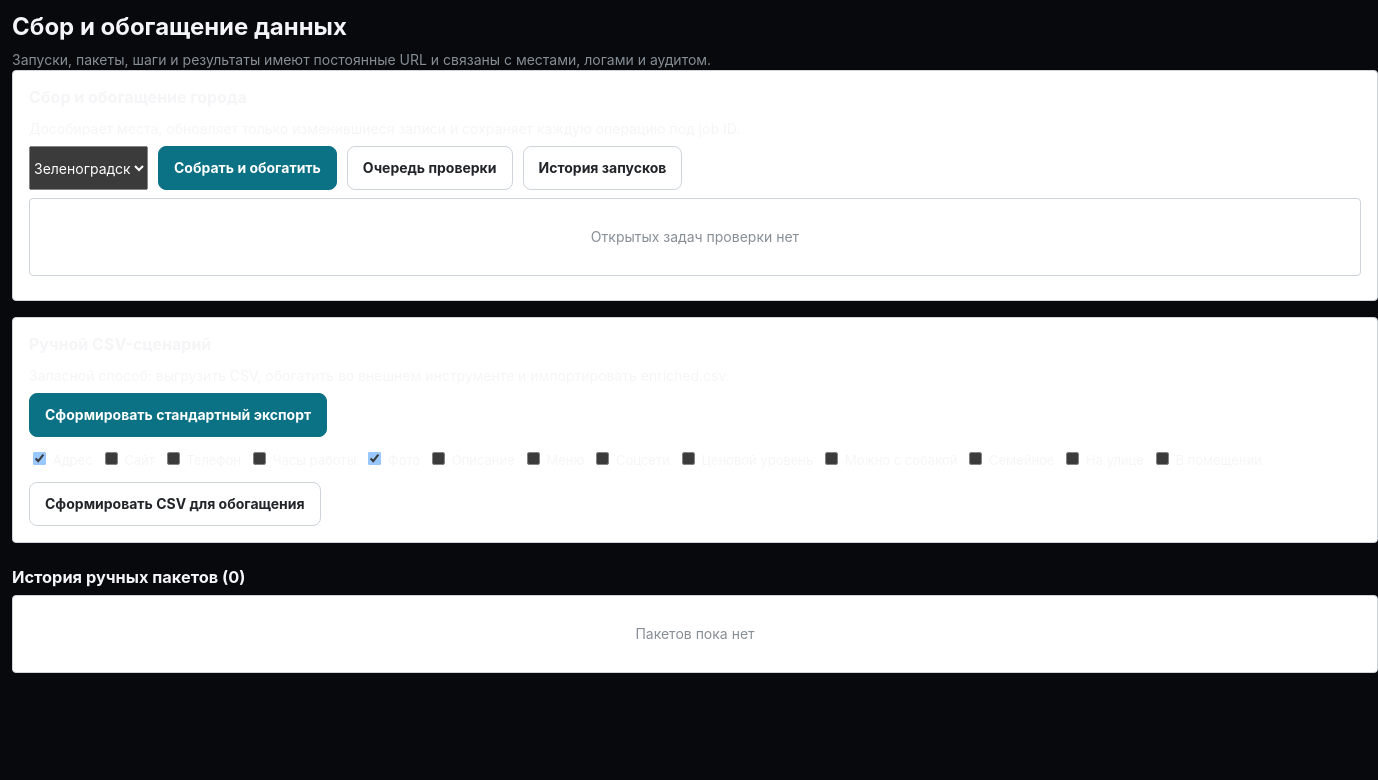
Scenario: AdminPlaceEnrichmentPage › shows ChatGPT path hint after export
Click the button "Сформировать CSV для обогащения". click: (175, 504)
box: [29,482,320,526]
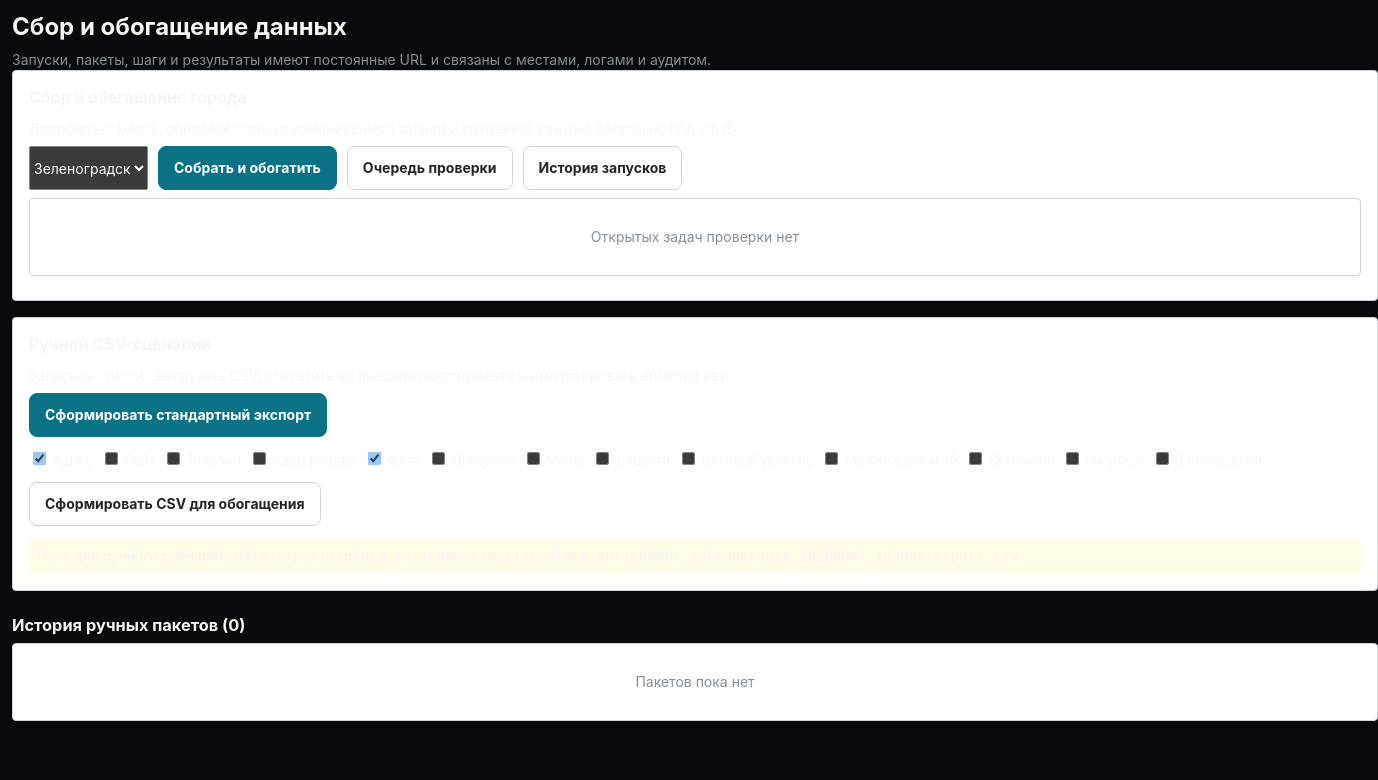
Check: the element with test id "chatgpt-path-hint" is shown, box [29,538,1361,574]
